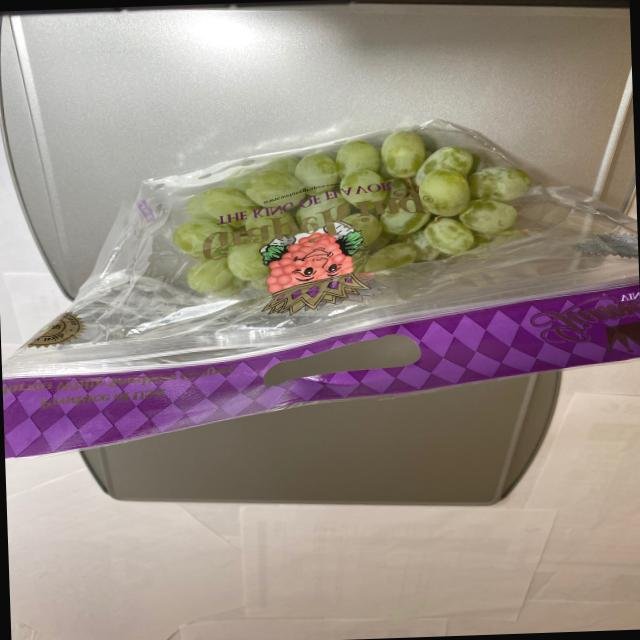grapes: (125, 121, 542, 337)
